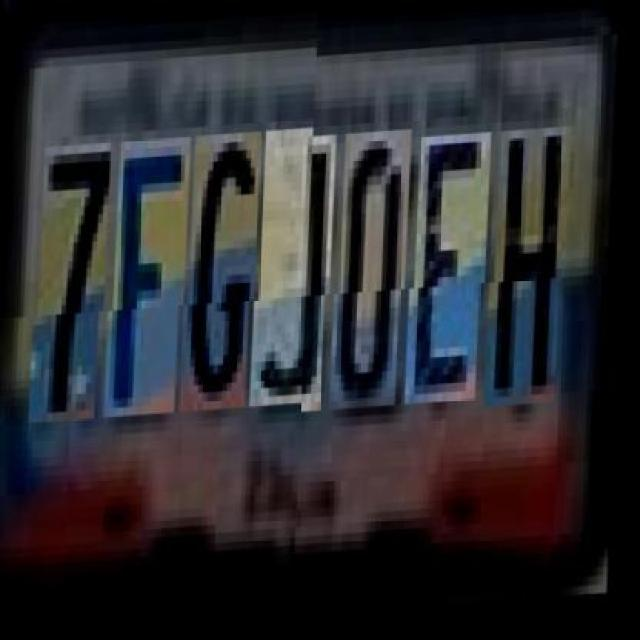0: (338, 136, 413, 416)
7: (36, 153, 112, 433)
e: (413, 140, 493, 411)
f: (112, 148, 192, 428)
g: (187, 144, 262, 424)
h: (493, 136, 573, 416)
j: (258, 140, 338, 420)
